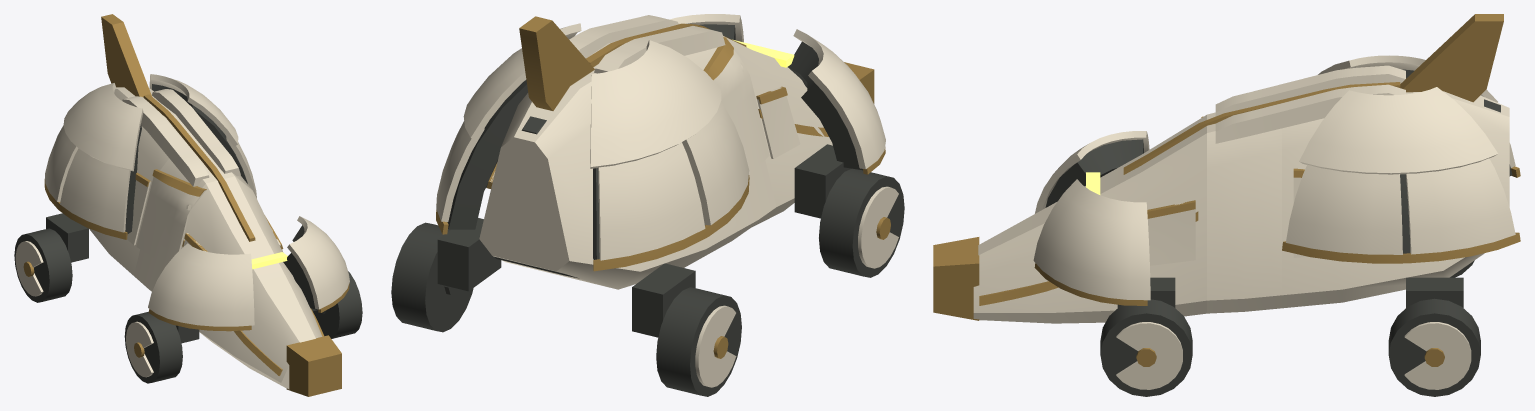
File: banki_charger.glb
3 renders of one model, left to right at view 1: azimuth 30°, elevation 25°; view 2: azimuth 150°, elevation 25°; view 3: azimuth 270°, elevation 25°, orthographic. The views are drawn at different scales.
Visible parts, largest first — view 1: body, body_brass, core_cover, ram, wheel_rr, fin, wheel_fr, body_dark, wheel_fl, susp_rr, wheel_rr_ivory, wheel_fr_ivory (+2 smaller); view 2: body, body_dark, wheel_rl, wheel_rr, wheel_fr, fin, body_brass, susp_rl, core_cover, susp_rr, susp_fr, wheel_fr_ivory (+4 smaller); view 3: body, body_brass, fin, wheel_rl, wheel_fl, ram, wheel_rl_ivory, wheel_fl_ivory, body_dark, susp_rl, susp_fl.
Part boxes in pixels (x1,y1,x2,y2): body: [45, 74, 349, 389]; body_brass: [44, 94, 349, 375]; core_cover: [136, 177, 205, 265]; ram: [286, 335, 341, 396]; wheel_rr: [14, 228, 72, 302]; fin: [101, 14, 151, 97]; wheel_fr: [124, 311, 182, 383]; body_dark: [125, 84, 317, 309]; wheel_fl: [313, 271, 362, 338]; susp_rr: [46, 213, 88, 262]; wheel_rr_ivory: [15, 241, 43, 296]; wheel_fr_ivory: [126, 321, 153, 377]; body: [436, 14, 885, 289]; body_dark: [447, 24, 862, 278]; wheel_rl: [391, 222, 473, 332]; wheel_rr: [656, 287, 741, 396]; wheel_fr: [819, 168, 904, 277]; fin: [519, 16, 594, 110]; body_brass: [436, 23, 885, 271]; susp_rl: [437, 218, 501, 294]; core_cover: [713, 50, 769, 174]; susp_rr: [632, 263, 695, 337]; susp_fr: [794, 144, 850, 218]; wheel_fr_ivory: [858, 186, 898, 268]; body: [973, 55, 1515, 323]; body_brass: [979, 82, 1520, 305]; fin: [1400, 14, 1503, 102]; wheel_rl: [1388, 298, 1480, 396]; wheel_fl: [1100, 299, 1192, 396]; ram: [933, 237, 979, 320]; wheel_rl_ivory: [1404, 322, 1471, 389]; wheel_fl_ivory: [1116, 322, 1182, 389]; body_dark: [1045, 69, 1512, 253]; susp_rl: [1406, 277, 1463, 307]; susp_fl: [1117, 277, 1175, 307].
Size of the model in its own units: 1.11 by 1.2 by 2.04.
